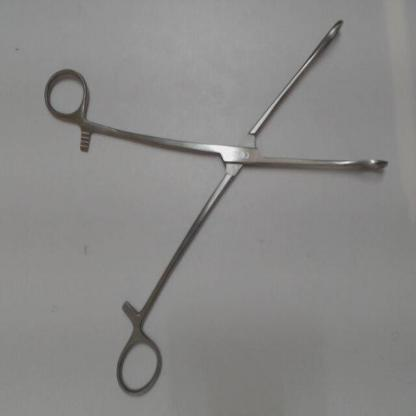Sponge Forceps: (40, 9, 399, 404)
